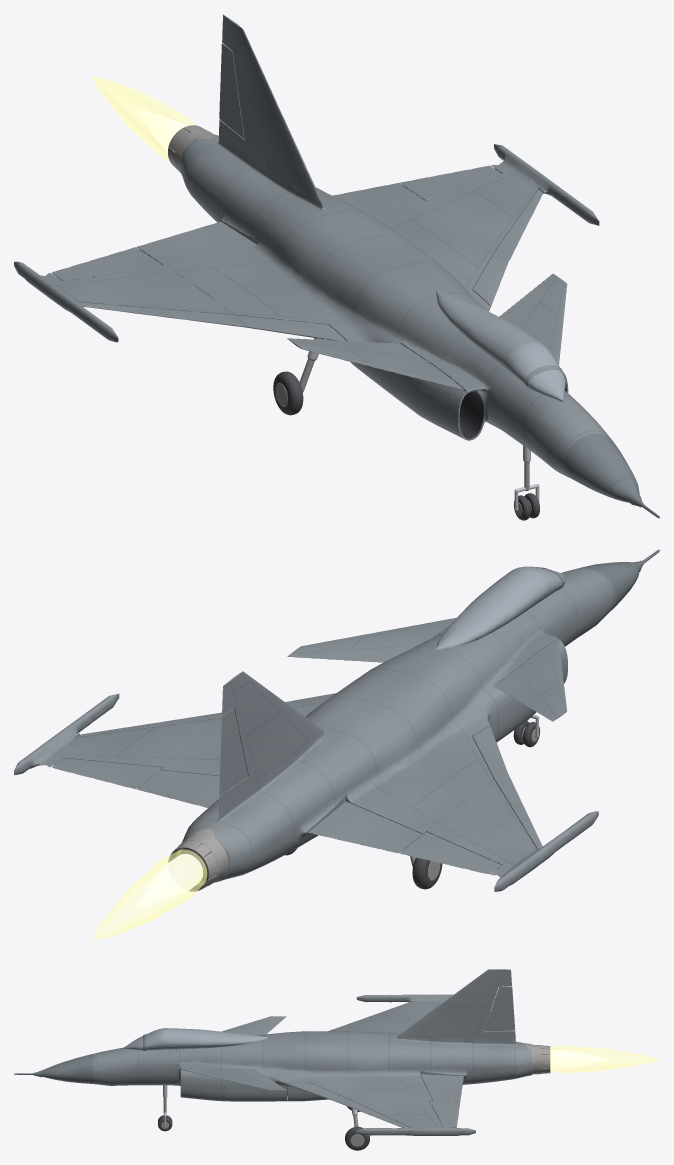
Rendered from gripen.glb.
The picture shows the model from 3 angles, top to bottom: view 1: azimuth 30°, elevation 25°; view 2: azimuth 150°, elevation 25°; view 3: azimuth 270°, elevation 25°; orthographic projection. The views are drawn at different scales.
Visible parts, largest first — view 1: airframe, fsim:elevator@-20,50 (×2), fsim:lef@-3,25 (×2), fsim:elevator+aileron:-1@-25,25 (×2), fsim:afterburner:0, fsim:elevator+aileron:1@-25,25 (×2), fsim:rudder, fsim:wheel:2:0.33; view 2: airframe, fsim:elevator@-20,50 (×2), fsim:elevator+aileron:-1@-25,25 (×2), fsim:afterburner:0, fsim:elevator+aileron:1@-25,25 (×2), fsim:lef@-3,25 (×2), fsim:rudder, fsim:wheel:2:0.33; view 3: airframe, fsim:afterburner:0, fsim:elevator@-20,50 (×2), fsim:elevator+aileron:1@-25,25 (×2), fsim:lef@-3,25 (×2), fsim:rudder, fsim:wheel:1:0.33, fsim:gear:90:0:0.2.
Part boxes in pixels (x1,y1,x2,y2): airframe: [14, 14, 659, 518]; fsim:elevator@-20,50 (×2): [287, 274, 567, 390]; fsim:lef@-3,25 (×2): [77, 189, 543, 340]; fsim:elevator+aileron:-1@-25,25 (×2): [52, 221, 256, 280]; fsim:afterburner:0: [92, 76, 196, 161]; fsim:elevator+aileron:1@-25,25 (×2): [333, 165, 501, 216]; fsim:rudder: [219, 43, 244, 138]; fsim:wheel:2:0.33: [273, 371, 303, 415]; airframe: [14, 549, 659, 891]; fsim:elevator@-20,50 (×2): [287, 617, 566, 721]; fsim:elevator+aileron:-1@-25,25 (×2): [308, 801, 501, 874]; fsim:afterburner:0: [92, 849, 207, 940]; fsim:elevator+aileron:1@-25,25 (×2): [52, 758, 223, 807]; fsim:lef@-3,25 (×2): [76, 693, 542, 849]; fsim:rudder: [219, 708, 248, 795]; fsim:wheel:2:0.33: [412, 857, 442, 889]; airframe: [14, 969, 541, 1135]; fsim:afterburner:0: [550, 1046, 659, 1073]; fsim:elevator@-20,50 (×2): [183, 1016, 286, 1090]; fsim:elevator+aileron:1@-25,25 (×2): [420, 1074, 463, 1127]; fsim:lef@-3,25 (×2): [288, 1001, 414, 1127]; fsim:rudder: [484, 986, 515, 1030]; fsim:wheel:1:0.33: [345, 1126, 369, 1150]; fsim:gear:90:0:0.2: [287, 1084, 326, 1101].
Bounding box in the file's own units: 8.42 × 4.67 × 16.96.
8 materials, 1 textured.
